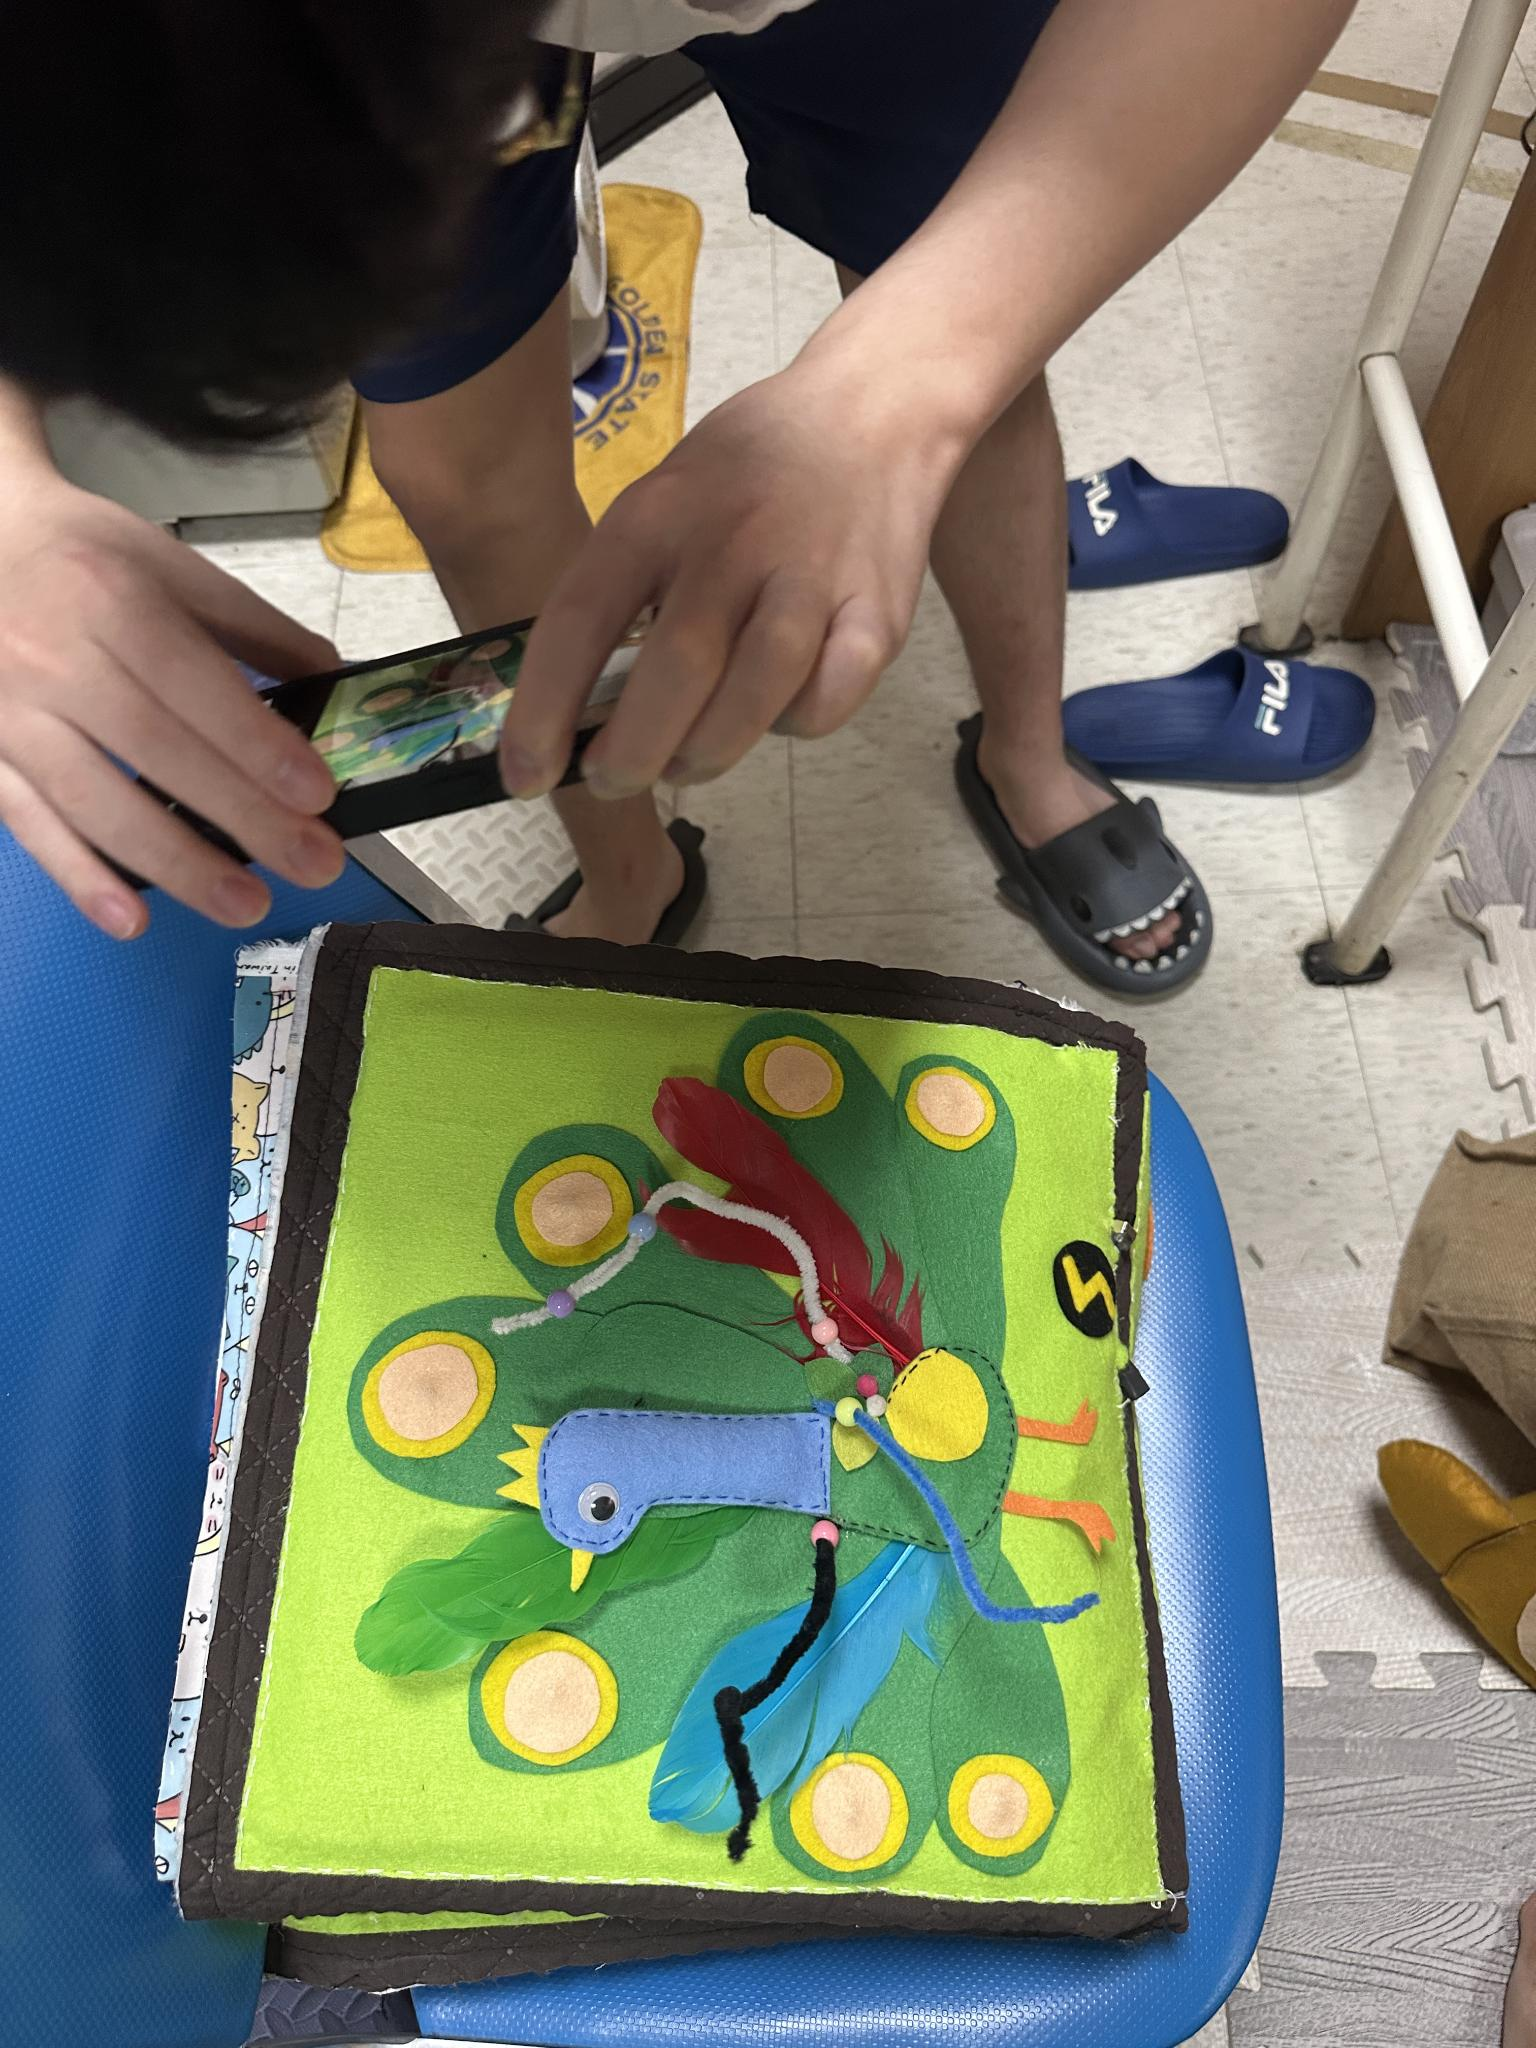bead: (531, 1277, 584, 1327), (834, 1385, 873, 1437), (803, 1509, 841, 1558), (628, 1200, 663, 1250), (808, 1301, 844, 1348)
